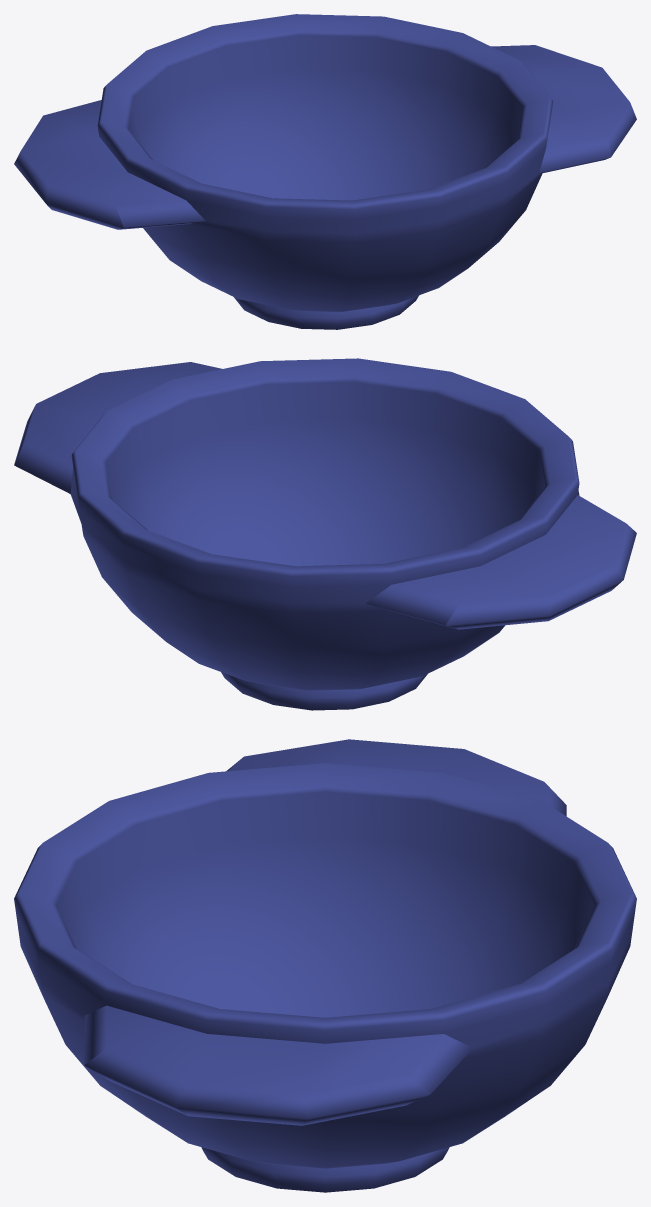
Rendered from Bol.fbx.
3 views of the same model, one above another, from view 1: azimuth 30°, elevation 25°; view 2: azimuth 150°, elevation 25°; view 3: azimuth 270°, elevation 25° (orthographic). The views are drawn at different scales.
Visible parts, largest first — view 1: Bol; view 2: Bol; view 3: Bol.
Boxes of the visible parts, x1,y1,x2,y2 form: Bol: [14, 14, 636, 329]; Bol: [14, 358, 636, 710]; Bol: [14, 739, 636, 1192].
Bounding box in the file's own units: 34.03 × 10.82 × 24.77.
